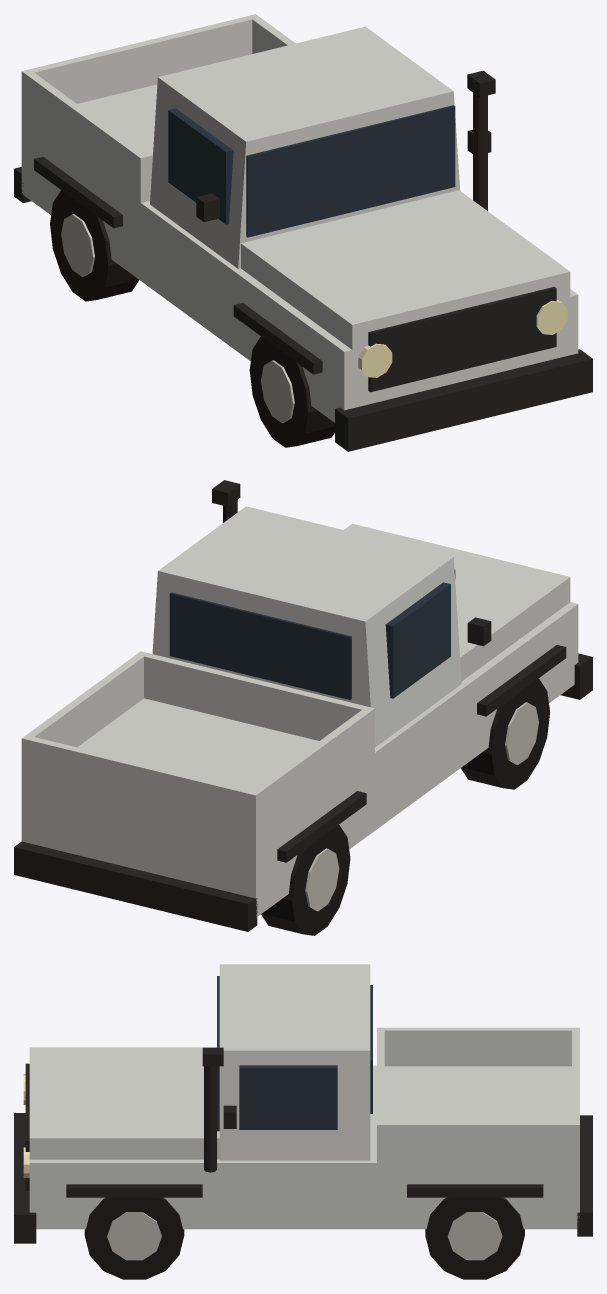
Rendered from shas.glb.
3 renders of one model, top to bottom at view 1: azimuth 30°, elevation 25°; view 2: azimuth 150°, elevation 25°; view 3: azimuth 270°, elevation 25°, orthographic. The views are drawn at different scales.
Visible parts, largest first — view 1: shas; view 2: shas; view 3: shas.
Part boxes in pixels (x1=…): shas: x1=14, y1=14, x2=592, y2=451; shas: x1=14, y1=480, x2=592, y2=935; shas: x1=14, y1=964, x2=592, y2=1279.
Size of the model in its own units: 2.16 by 1.95 by 4.42.
